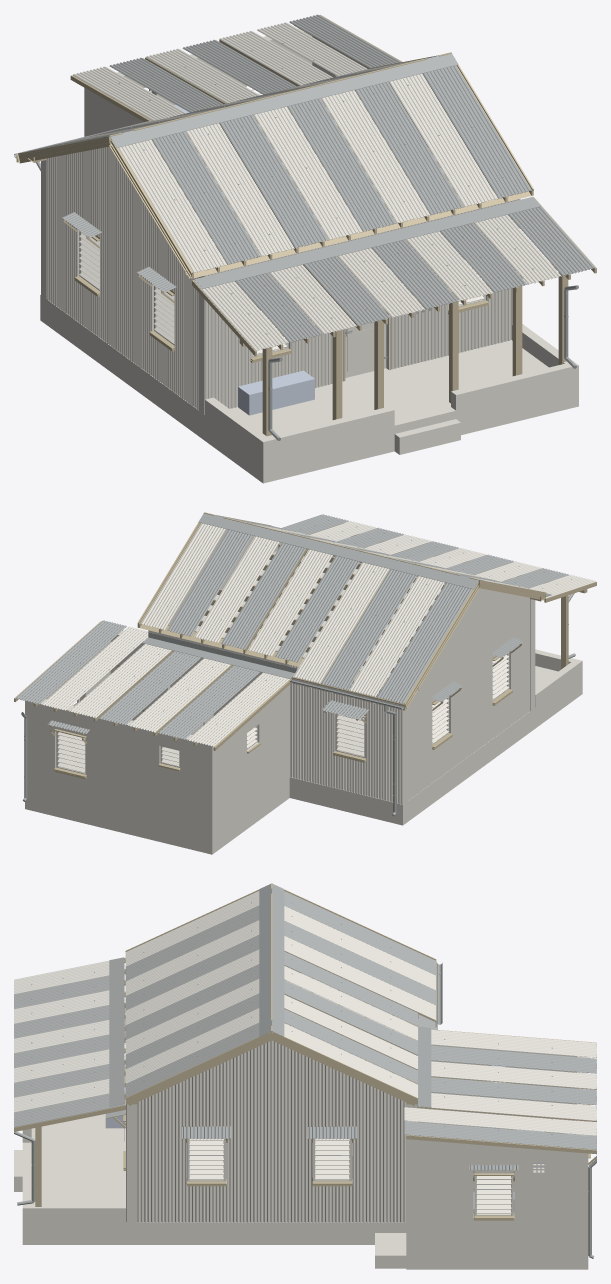
The model's file is cite_moulin_h06.glb.
3 renders of one model, top to bottom at view 1: azimuth 30°, elevation 25°; view 2: azimuth 150°, elevation 25°; view 3: azimuth 270°, elevation 25°, orthographic. The views are drawn at different scales.
Parts seen in each view (by area): view 1: galvanized_steel, corrugated_rust, new_corrugated_blue_paint, Shell_Slabs_Foundation, wood_weathered, Shell_Veranda_Parapet, Shell_Veranda_Posts, painted_timber_warmgrey, white_peeling_timber, blockwork_raw, Ph_hall_bench_01, DoorLeaf_01_L_in (+1 smaller); view 2: galvanized_steel, corrugated_rust, blockwork_raw, new_corrugated_blue_paint, Shell_Slabs_Foundation, wood_weathered, white_peeling_timber, painted_timber_warmgrey, Shell_Veranda_Parapet, Shell_Veranda_Posts; view 3: galvanized_steel, corrugated_rust, new_corrugated_blue_paint, blockwork_raw, Shell_Slabs_Foundation, wood_weathered, white_peeling_timber, Shell_Veranda_Parapet, painted_timber_warmgrey, Shell_Steps_Podest, Shell_Veranda_Posts.
Boxes of the visible parts, <box> form: galvanized_steel: <box>14,14,595,440</box>; corrugated_rust: <box>55,22,561,351</box>; new_corrugated_blue_paint: <box>47,146,520,414</box>; Shell_Slabs_Foundation: <box>40,294,578,483</box>; wood_weathered: <box>16,15,596,381</box>; Shell_Veranda_Parapet: <box>205,324,578,457</box>; Shell_Veranda_Posts: <box>262,272,568,436</box>; painted_timber_warmgrey: <box>41,74,493,414</box>; white_peeling_timber: <box>79,85,485,357</box>; blockwork_raw: <box>84,28,368,136</box>; Ph_hall_bench_01: <box>238,370,314,415</box>; DoorLeaf_01_L_in: <box>345,281,387,377</box>; galvanized_steel: <box>15,513,575,816</box>; corrugated_rust: <box>41,521,596,746</box>; blockwork_raw: <box>25,630,289,842</box>; new_corrugated_blue_paint: <box>290,588,535,804</box>; Shell_Slabs_Foundation: <box>25,666,582,854</box>; wood_weathered: <box>14,512,596,779</box>; white_peeling_timber: <box>56,652,509,774</box>; painted_timber_warmgrey: <box>148,529,534,804</box>; Shell_Veranda_Parapet: <box>535,649,582,707</box>; Shell_Veranda_Posts: <box>561,595,568,669</box>; galvanized_steel: <box>14,884,596,1258</box>; corrugated_rust: <box>14,891,596,1135</box>; new_corrugated_blue_paint: <box>126,1032,406,1222</box>; blockwork_raw: <box>406,1044,588,1256</box>; Shell_Slabs_Foundation: <box>22,1100,588,1269</box>; wood_weathered: <box>14,883,596,1220</box>; white_peeling_timber: <box>187,1081,513,1215</box>; Shell_Veranda_Parapet: <box>22,1128,125,1222</box>; painted_timber_warmgrey: <box>127,965,478,1222</box>; Shell_Steps_Podest: <box>14,1150,406,1268</box>; Shell_Veranda_Posts: <box>35,1130,41,1206</box>.
Size of the model in its own units: 8.99 by 5.4 by 12.99.
